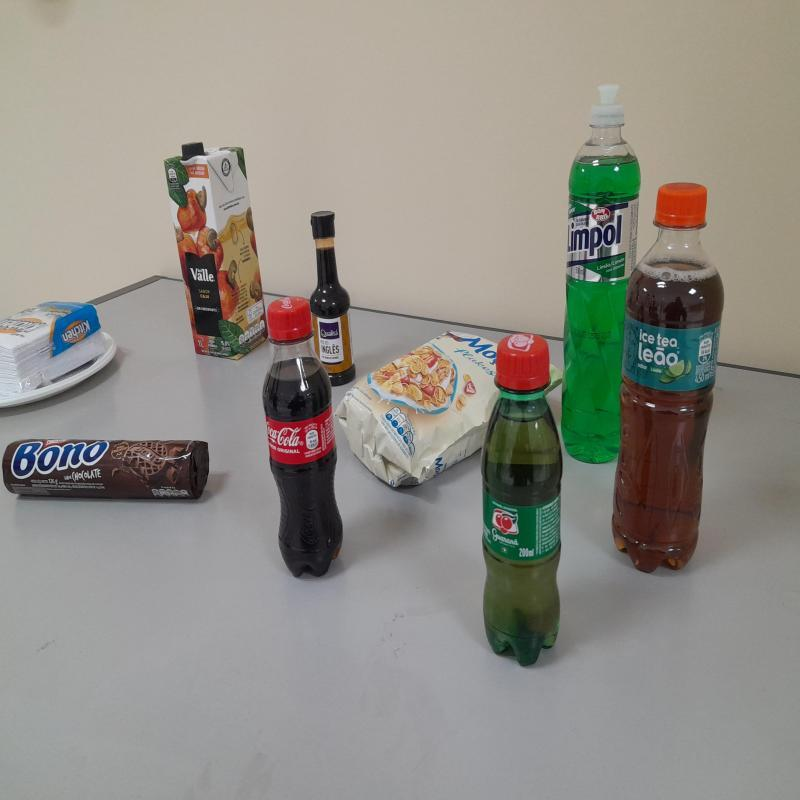Cleaner: (561, 85, 643, 469)
Coke: (263, 297, 344, 578)
Cookies: (0, 440, 210, 503)
CornFlakes: (333, 332, 500, 490)
EnglishSauce: (308, 209, 358, 388)
Guarana: (483, 333, 566, 662)
IceTea: (612, 183, 725, 574)
